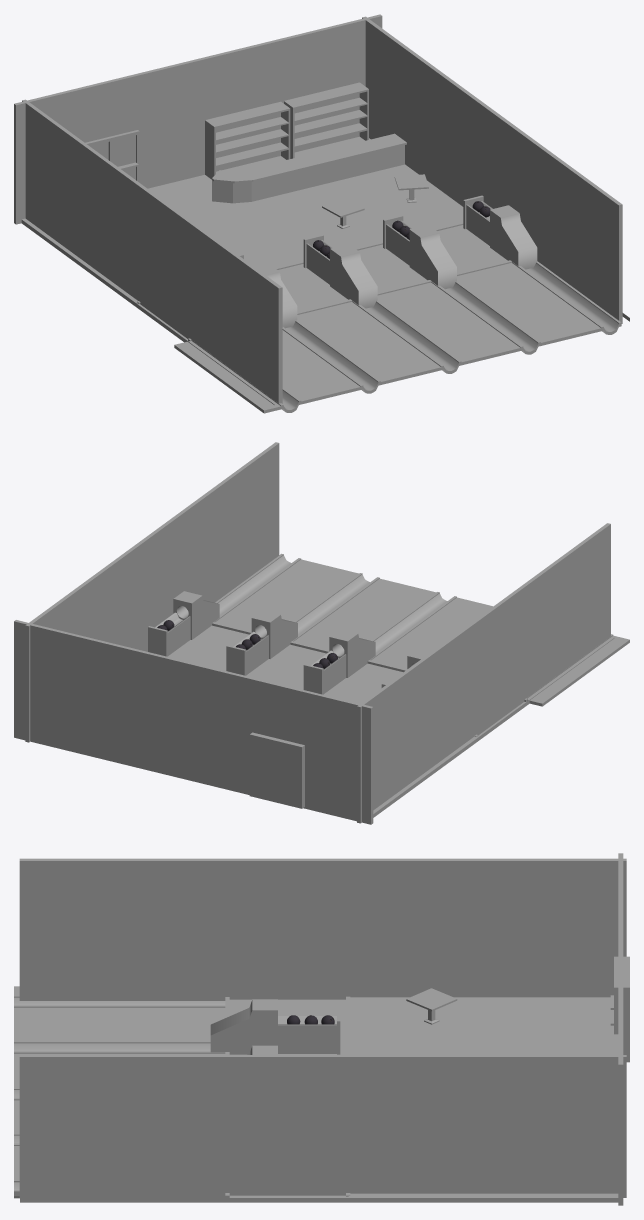
The model's file is roomROUGH.fbx.
The picture shows the model from 3 angles, top to bottom: view 1: azimuth 30°, elevation 25°; view 2: azimuth 150°, elevation 25°; view 3: azimuth 270°, elevation 25°; orthographic projection. The views are drawn at different scales.
Parts seen in each view (by area): view 1: sidewall2, sidewall1, backwall, floor, lane2, lane, polySurface4 (×4), lane1, counter, shelf2, lane3, shelf1 (+6 smaller); view 2: backwall, sidewall2, sidewall1, floor, lane, lane1, lane2, polySurface4 (×3), door, ballholder4 (×3), lane4, pCube8 (×3) (+1 smaller); view 3: sidewall1, sidewall2, floor, lane3, polySurface4, backwall, ballholder4, lane4, door, table2, lane2.
Boxes of the visible parts, left/top/right/bottom form: sidewall2: left=22, top=99, right=282, bottom=403; sidewall1: left=362, top=16, right=622, bottom=323; backwall: left=14, top=14, right=382, bottom=224; floor: left=21, top=138, right=629, bottom=404; lane2: left=297, top=300, right=461, bottom=384; lane: left=457, top=261, right=621, bottom=345; polySurface4 (×4): left=255, top=205, right=537, bottom=328; lane1: left=377, top=281, right=540, bottom=365; counter: left=212, top=133, right=406, bottom=203; shelf2: left=205, top=101, right=290, bottom=179; lane3: left=282, top=320, right=380, bottom=404; shelf1: left=284, top=82, right=368, bottom=158; backwall: left=14, top=620, right=373, bottom=824; sidewall2: left=357, top=523, right=610, bottom=823; sidewall1: left=25, top=442, right=279, bottom=742; floor: left=167, top=625, right=614, bottom=817; lane: left=214, top=553, right=358, bottom=630; lane1: left=292, top=573, right=435, bottom=649; lane2: left=370, top=592, right=492, bottom=668; polySurface4 (×3): left=173, top=591, right=375, bottom=677; door: left=249, top=732, right=304, bottom=808; ballholder4 (×3): left=155, top=612, right=346, bottom=693; lane4: left=527, top=634, right=629, bottom=706; pCube8 (×3): left=148, top=626, right=323, bottom=694; sidewall1: left=19, top=1055, right=626, bottom=1197; sidewall2: left=19, top=858, right=626, bottom=1000; floor: left=20, top=997, right=618, bottom=1202; lane3: left=14, top=1007, right=225, bottom=1053; polySurface4: left=210, top=999, right=277, bottom=1054; backwall: left=618, top=853, right=623, bottom=1205; ballholder4: left=278, top=1016, right=336, bottom=1053; lane4: left=14, top=986, right=225, bottom=1007; door: left=610, top=956, right=629, bottom=1062; table2: left=406, top=988, right=457, bottom=1024; lane2: left=14, top=1053, right=225, bottom=1100.
Bounding box in the file's own units: 514 × 165 × 620.
